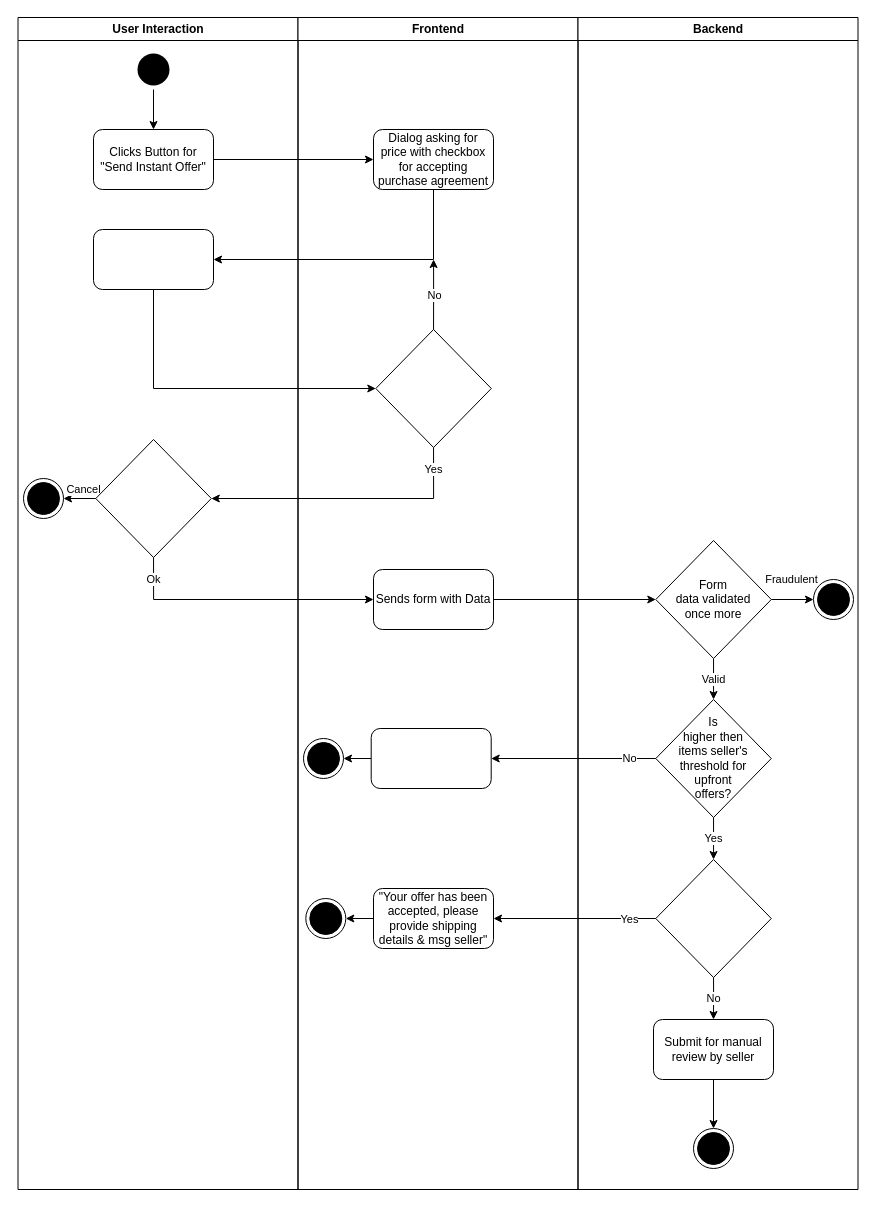
Image size: 875x1207. Some labels were removed from this diagram. The shapes that lost their labels are listed below. From the top down, each one's centre as x and y in pixels, then its label:
pixel 153 259: Fills input fields
pixel 433 388: Validation: Value valid? Terms accepted?
pixel 153 498: Presses enabled "Ok" button or cancels the offer
pixel 430 758: "Your offer has been rejected" 1. offer again 2. start chat
pixel 713 918: Is higher then items seller's expected value?
